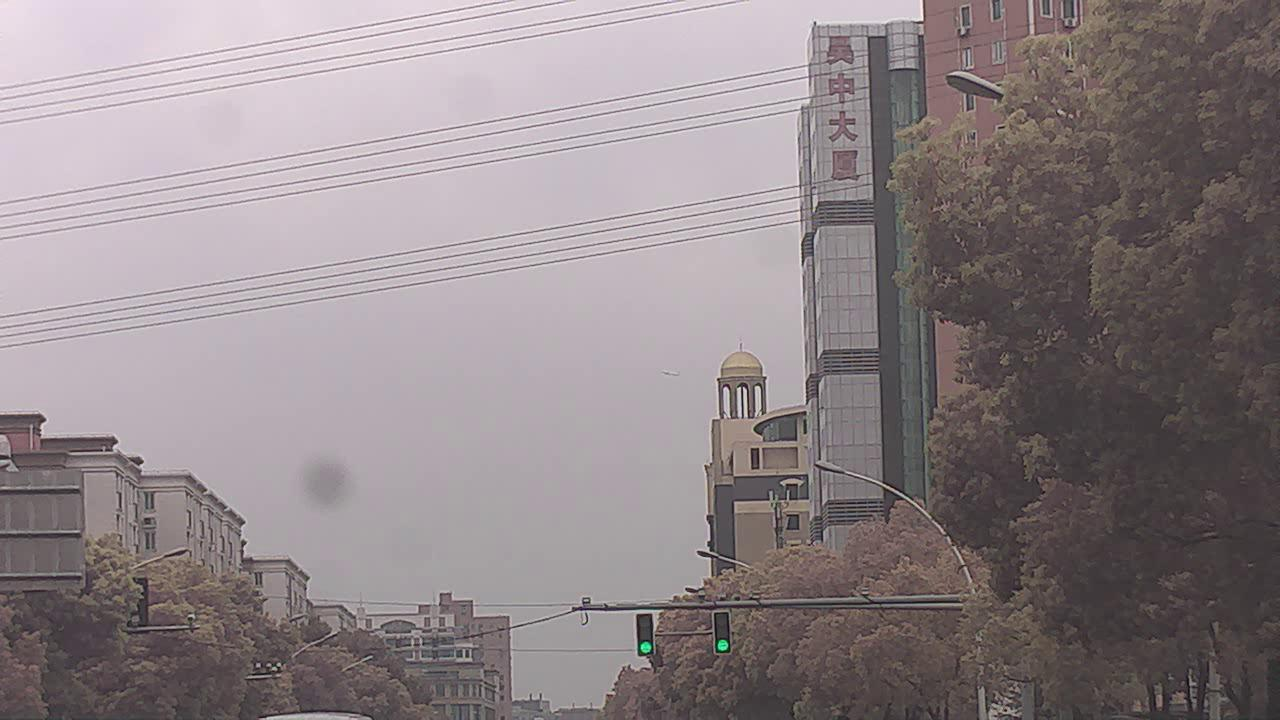traffic_light: (634, 614, 656, 659), (715, 610, 733, 657)
